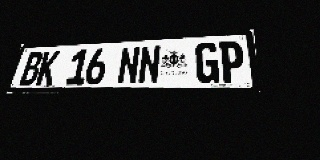1: (66, 49, 90, 85)
6: (84, 48, 109, 85)
B: (19, 52, 44, 86)
G: (195, 42, 219, 83)
K: (35, 51, 60, 85)
N: (137, 45, 161, 84), (117, 46, 141, 84)
P: (219, 41, 245, 83)
